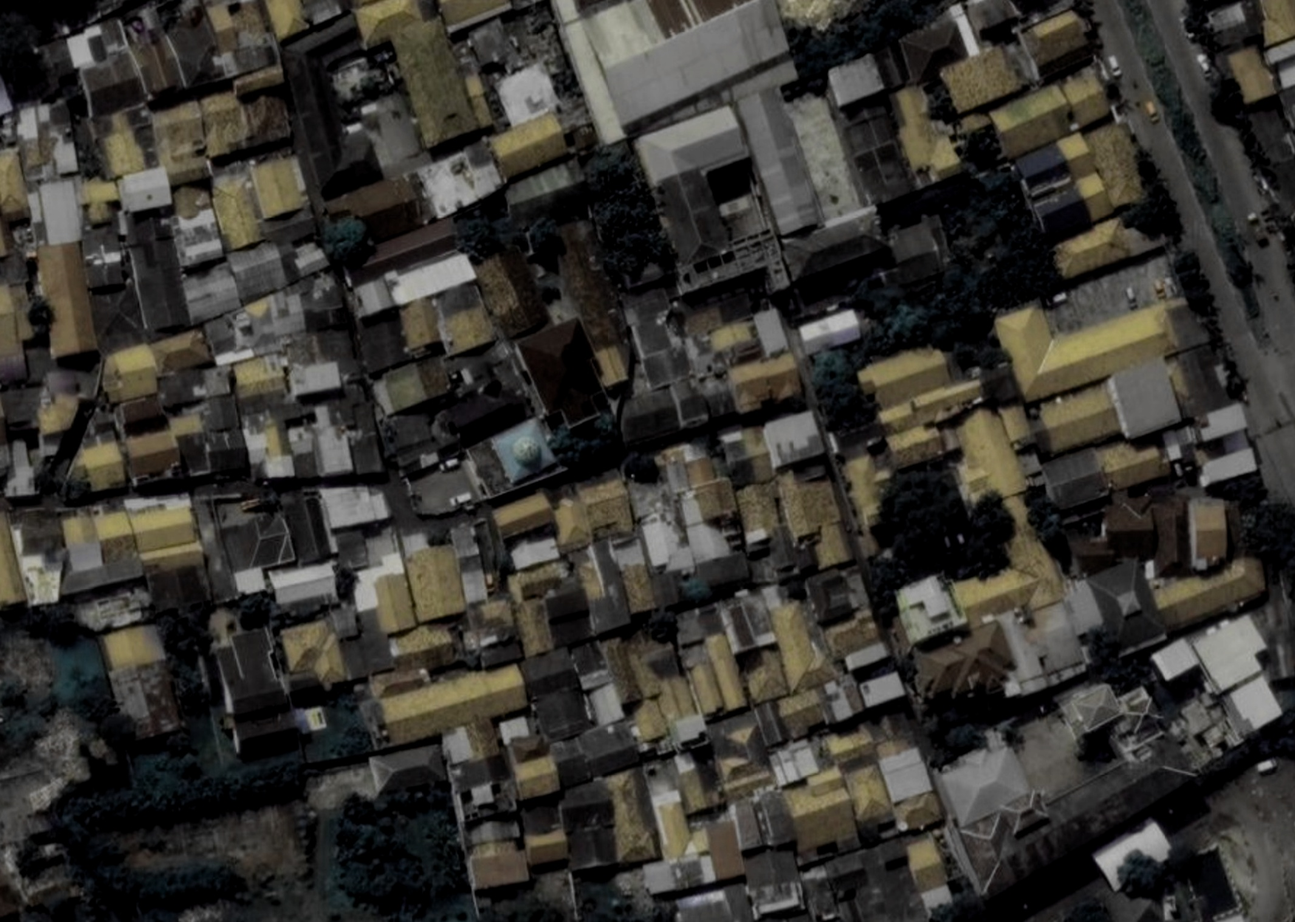building: (955, 729, 1199, 907), (550, 0, 802, 147), (630, 103, 793, 318), (991, 259, 1200, 409), (596, 0, 798, 135), (278, 16, 381, 206), (541, 216, 649, 393), (821, 706, 948, 852), (945, 787, 1074, 904), (731, 82, 827, 239), (373, 658, 532, 751), (253, 384, 385, 493), (610, 354, 753, 452), (384, 12, 483, 151), (512, 315, 616, 437), (1058, 556, 1170, 669), (904, 618, 1025, 721), (982, 593, 1092, 703), (430, 336, 540, 446), (122, 489, 218, 615), (923, 729, 1036, 834), (10, 99, 90, 247), (96, 619, 187, 748), (632, 103, 751, 193), (985, 493, 1072, 613), (1149, 552, 1274, 635), (461, 414, 564, 506), (1047, 205, 1163, 286), (209, 283, 317, 370), (943, 401, 1029, 510), (819, 836, 928, 922), (120, 206, 191, 337), (322, 170, 429, 256), (773, 463, 853, 576), (886, 77, 965, 189), (205, 625, 292, 726), (468, 241, 553, 344), (777, 207, 889, 284), (342, 216, 463, 287), (614, 285, 693, 393), (777, 766, 864, 862), (411, 138, 508, 223), (854, 337, 957, 416), (33, 239, 99, 362), (166, 392, 251, 487), (1027, 382, 1125, 462), (986, 80, 1081, 162), (1189, 609, 1277, 697), (446, 752, 525, 850), (877, 374, 990, 442), (374, 398, 464, 482), (949, 553, 1046, 629), (1104, 356, 1186, 443), (887, 11, 975, 92), (499, 156, 594, 231), (601, 623, 683, 709), (1090, 814, 1178, 894), (938, 41, 1027, 120), (7, 505, 73, 609), (570, 537, 637, 639), (1093, 685, 1174, 769), (486, 109, 574, 184), (889, 569, 969, 648), (203, 0, 282, 80), (1019, 4, 1100, 81), (1084, 119, 1151, 212), (557, 779, 623, 873), (766, 596, 829, 693), (837, 447, 906, 534), (276, 617, 350, 698), (161, 2, 228, 91), (337, 539, 411, 619), (121, 10, 186, 101), (369, 352, 457, 419), (1163, 341, 1234, 424), (149, 100, 214, 188), (402, 542, 469, 625), (605, 767, 661, 866), (444, 375, 529, 440), (725, 350, 807, 417), (74, 47, 148, 121), (384, 249, 478, 307), (899, 831, 962, 917), (725, 785, 798, 859), (309, 127, 385, 198), (283, 325, 361, 394), (1053, 674, 1128, 745), (206, 168, 268, 253), (740, 844, 807, 922), (1038, 445, 1112, 515), (1096, 430, 1173, 497), (488, 416, 559, 487), (885, 213, 951, 289), (278, 487, 338, 569), (606, 533, 663, 619), (612, 384, 685, 451), (85, 280, 149, 355), (492, 60, 562, 128), (71, 585, 156, 640), (802, 562, 872, 628), (334, 609, 396, 683), (405, 462, 480, 523), (176, 260, 244, 326), (705, 709, 771, 776), (226, 239, 293, 305), (576, 716, 644, 781), (737, 350, 806, 414), (248, 152, 311, 222), (576, 474, 640, 542), (539, 575, 597, 650), (368, 743, 448, 797), (844, 761, 899, 839), (232, 508, 297, 574), (96, 342, 163, 406), (759, 408, 827, 471), (716, 422, 776, 491), (57, 555, 146, 601), (1174, 691, 1236, 757), (127, 499, 200, 555), (717, 590, 778, 657), (229, 707, 303, 762), (1224, 673, 1287, 737), (702, 630, 750, 714), (1030, 184, 1095, 245), (795, 305, 867, 360), (93, 109, 148, 180), (822, 52, 888, 111), (465, 837, 532, 895), (1224, 42, 1281, 110), (318, 480, 392, 532), (1060, 518, 1121, 581), (531, 684, 593, 745), (293, 270, 351, 335), (27, 383, 85, 448), (463, 17, 521, 81), (168, 207, 226, 271), (1058, 66, 1115, 131), (437, 715, 504, 770), (1013, 141, 1075, 200), (672, 749, 725, 818), (200, 89, 252, 159), (490, 490, 558, 543), (354, 0, 429, 48), (681, 291, 754, 340), (268, 561, 339, 611), (70, 438, 130, 497), (235, 89, 293, 150), (733, 480, 785, 548), (460, 595, 522, 652), (389, 624, 458, 675), (149, 326, 214, 380), (883, 420, 949, 473), (680, 646, 727, 720), (437, 302, 499, 358), (821, 608, 884, 663), (36, 177, 86, 246), (1186, 496, 1231, 572), (877, 745, 934, 805), (737, 645, 792, 707), (960, 0, 1028, 50), (1149, 494, 1190, 576), (369, 570, 418, 638), (124, 427, 183, 483), (705, 316, 766, 370), (692, 549, 755, 601), (1203, 0, 1264, 53), (774, 686, 832, 741), (1102, 501, 1156, 560), (520, 647, 580, 699), (115, 165, 174, 217), (702, 817, 747, 885), (0, 498, 27, 611), (1193, 445, 1260, 490), (259, 205, 321, 253), (230, 352, 291, 400), (641, 853, 706, 898), (767, 737, 823, 789), (638, 509, 685, 570), (1148, 635, 1203, 687), (511, 596, 556, 659), (396, 297, 444, 356), (91, 505, 139, 564), (509, 752, 563, 804), (719, 753, 775, 803), (0, 285, 28, 385), (33, 35, 80, 94), (652, 798, 695, 862), (512, 558, 573, 603), (651, 672, 700, 727), (669, 601, 724, 650), (891, 790, 947, 838), (82, 236, 129, 293), (61, 22, 112, 73), (691, 475, 741, 527), (156, 367, 212, 412), (1193, 401, 1250, 445), (539, 576, 591, 624), (683, 517, 732, 567), (438, 0, 512, 33), (569, 638, 614, 692), (670, 376, 713, 432), (683, 517, 732, 566), (626, 696, 672, 748), (506, 531, 562, 573), (0, 385, 47, 435), (1055, 130, 1100, 182), (115, 393, 168, 437), (1074, 170, 1117, 224), (230, 62, 288, 102), (550, 737, 593, 790), (553, 496, 593, 552), (79, 175, 122, 227), (473, 634, 526, 676), (762, 525, 803, 579), (522, 827, 572, 871), (751, 306, 792, 359), (857, 669, 908, 711), (584, 680, 627, 729), (0, 148, 28, 223), (264, 0, 311, 44), (820, 676, 859, 725), (956, 823, 994, 873), (58, 510, 100, 555), (4, 440, 36, 497), (1115, 684, 1158, 725), (1259, 0, 1295, 48), (841, 640, 891, 674), (289, 370, 335, 404), (681, 450, 720, 490), (206, 0, 236, 52), (335, 529, 370, 571), (172, 184, 212, 220), (650, 569, 685, 610), (50, 134, 80, 177), (15, 104, 49, 141), (496, 714, 533, 747), (232, 566, 268, 597), (303, 0, 346, 25), (0, 250, 29, 286), (1263, 38, 1295, 67), (1278, 60, 1295, 89), (72, 559, 101, 572)
tree: (68, 759, 305, 835), (862, 455, 977, 567), (26, 799, 138, 908), (853, 294, 938, 367), (911, 697, 991, 773), (923, 266, 1002, 341), (806, 346, 873, 431), (956, 492, 1015, 587), (125, 858, 238, 907), (151, 600, 219, 666), (447, 204, 511, 267), (1012, 484, 1073, 548), (586, 181, 652, 240), (576, 141, 636, 203), (857, 551, 917, 613), (975, 260, 1037, 319), (0, 681, 52, 749), (1114, 852, 1172, 907), (335, 858, 401, 906), (1166, 247, 1217, 309), (538, 423, 595, 477), (167, 653, 214, 718), (1192, 741, 1255, 789), (332, 817, 399, 862), (1247, 502, 1292, 565), (1, 12, 42, 81), (66, 667, 116, 721), (390, 844, 430, 911), (840, 6, 891, 58), (329, 718, 379, 770), (598, 233, 648, 282), (1165, 110, 1209, 165), (1221, 467, 1270, 516), (1118, 194, 1168, 242), (789, 34, 836, 85), (319, 218, 368, 266), (844, 275, 901, 316), (954, 124, 1001, 172), (430, 843, 477, 890), (418, 813, 464, 859), (6, 840, 53, 885), (618, 447, 665, 492), (1018, 252, 1062, 300), (19, 604, 74, 642), (1159, 834, 1204, 879), (639, 604, 685, 648), (928, 890, 990, 921), (520, 212, 564, 255), (630, 220, 674, 263), (1242, 722, 1286, 765), (1099, 660, 1153, 695), (1223, 255, 1268, 297), (819, 24, 861, 68), (1082, 626, 1121, 670), (878, 1, 927, 35), (1207, 73, 1241, 120), (1147, 684, 1183, 728), (677, 573, 717, 612), (979, 168, 1020, 206), (1178, 5, 1215, 47), (95, 709, 135, 747), (990, 194, 1030, 232), (325, 683, 362, 722), (339, 794, 379, 830), (546, 67, 583, 104), (920, 85, 957, 122), (988, 714, 1024, 752), (953, 341, 1004, 367), (54, 472, 89, 509), (370, 792, 426, 815), (496, 208, 527, 249), (591, 411, 619, 455), (72, 892, 112, 922), (132, 824, 167, 858), (937, 203, 970, 239), (1062, 897, 1108, 922), (877, 651, 917, 679), (171, 748, 204, 780), (689, 431, 723, 462), (533, 271, 565, 303), (1078, 732, 1108, 765), (1009, 228, 1041, 258), (521, 8, 551, 38), (328, 567, 357, 598), (27, 467, 57, 496), (237, 595, 263, 628), (928, 320, 956, 349), (57, 83, 85, 111), (42, 890, 70, 918), (781, 575, 808, 604), (424, 784, 450, 810), (491, 549, 517, 574), (29, 300, 47, 334), (162, 733, 192, 753), (425, 525, 449, 549), (79, 152, 102, 177), (378, 422, 394, 457), (1279, 691, 1294, 728), (142, 907, 175, 921), (431, 878, 452, 899), (369, 49, 389, 70), (357, 77, 376, 98), (18, 912, 50, 922), (1278, 732, 1292, 753), (265, 492, 279, 508), (295, 608, 309, 623)
